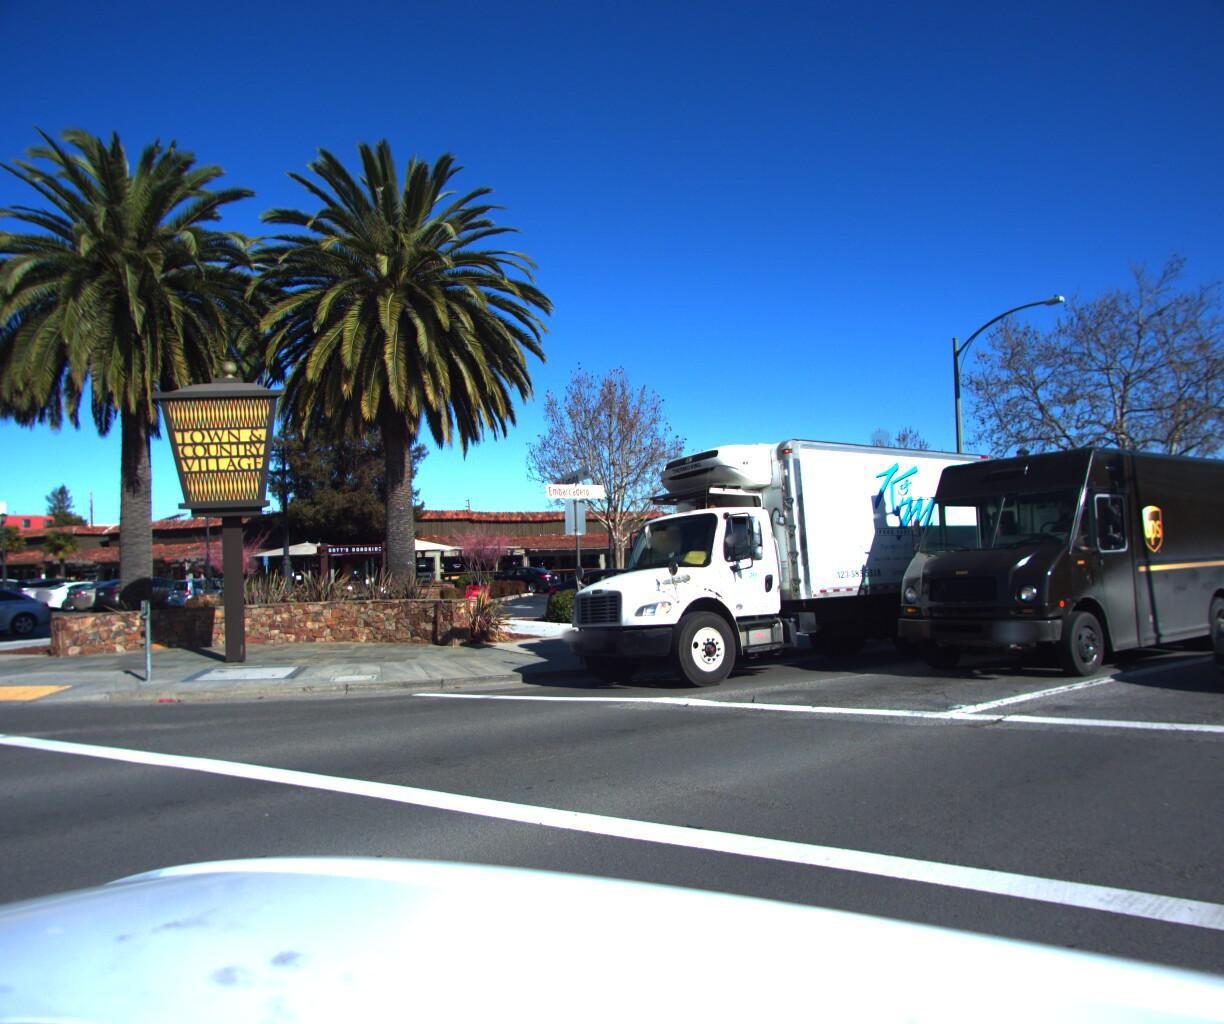car: (541, 559, 707, 618), (1178, 541, 1224, 720), (0, 576, 63, 640)
truck: (559, 418, 1034, 699), (864, 427, 1224, 699)
